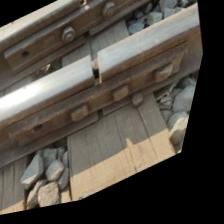person: (61, 33, 140, 110), (52, 0, 113, 26), (91, 106, 123, 138), (78, 27, 104, 51)
